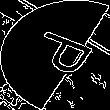P_SE: (15, 27, 95, 83)
